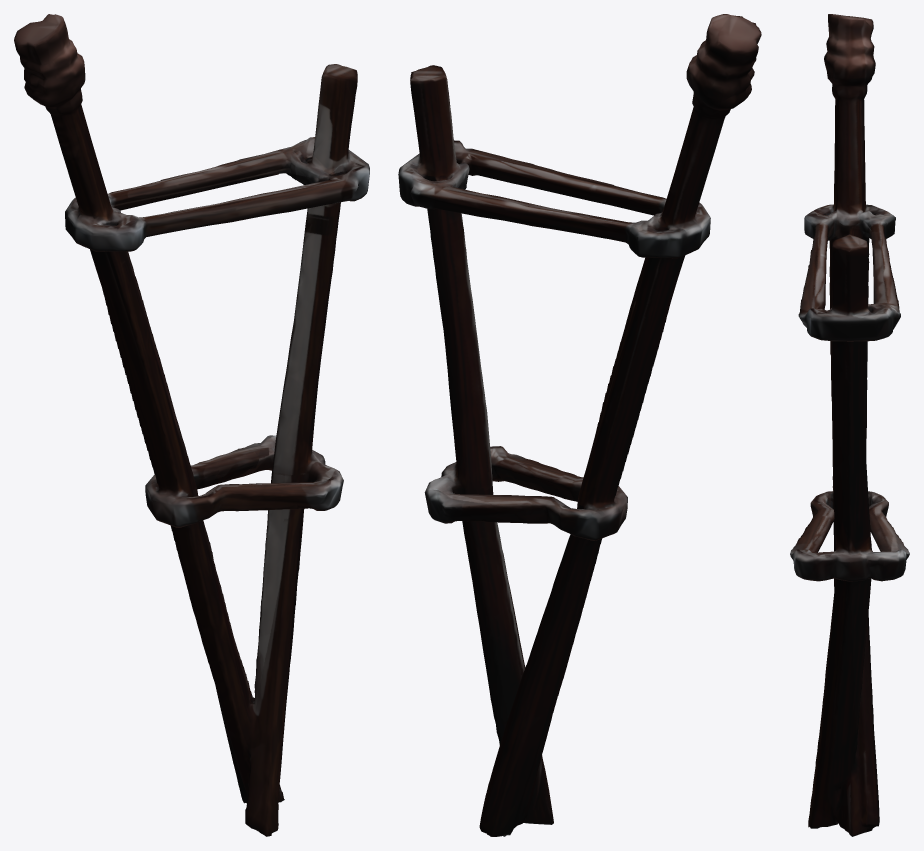
File: torch.fbx
3 views of the same model, side by side, from view 1: azimuth 30°, elevation 25°; view 2: azimuth 150°, elevation 25°; view 3: azimuth 270°, elevation 25° (orthographic). The views are drawn at different scales.
Visible parts, largest first — view 1: Untitled; view 2: Untitled; view 3: Untitled.
Boxes of the visible parts, x1,y1,x2,y2 form: Untitled: (14,14,369,836); Untitled: (398,14,761,836); Untitled: (790,14,909,836).
Size of the model in its own units: 0.4195 by 1 by 0.1488.
1 material, 1 textured.
